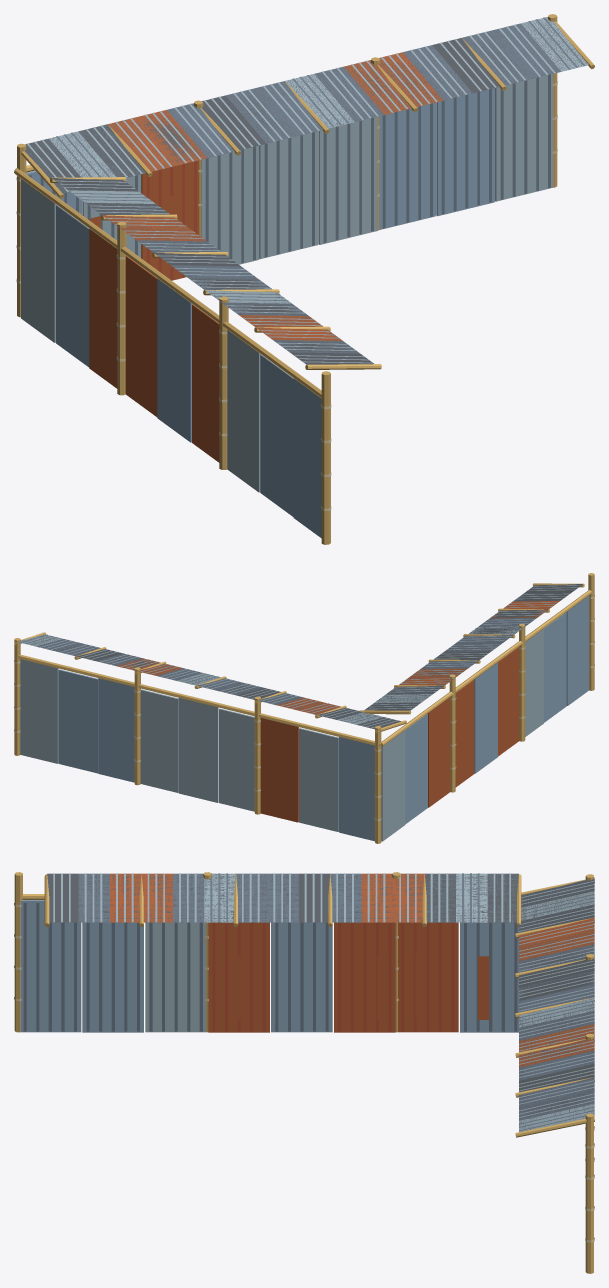
Rendered from growth_shack_tin.glb.
The picture shows the model from 3 angles, top to bottom: view 1: azimuth 30°, elevation 25°; view 2: azimuth 150°, elevation 25°; view 3: azimuth 270°, elevation 25°; orthographic projection. The views are drawn at different scales.
Visible parts, largest first — view 1: growth_shack_tin; view 2: growth_shack_tin; view 3: growth_shack_tin.
Part boxes in pixels (bbox=[...]): growth_shack_tin: bbox=[14, 14, 594, 544]; growth_shack_tin: bbox=[14, 573, 594, 843]; growth_shack_tin: bbox=[14, 872, 594, 1273].
Size of the model in its own units: 9.23 by 2.75 by 9.24.
Materials: 1 (1 with a texture image).
